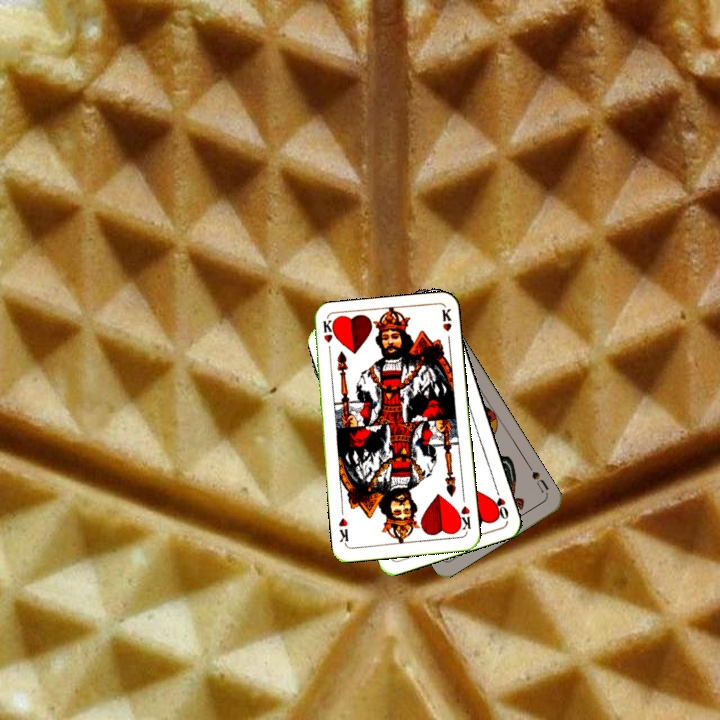HK: (319, 317, 335, 358), (453, 502, 473, 534)
HO: (488, 483, 511, 522)
SU: (524, 461, 552, 495)
